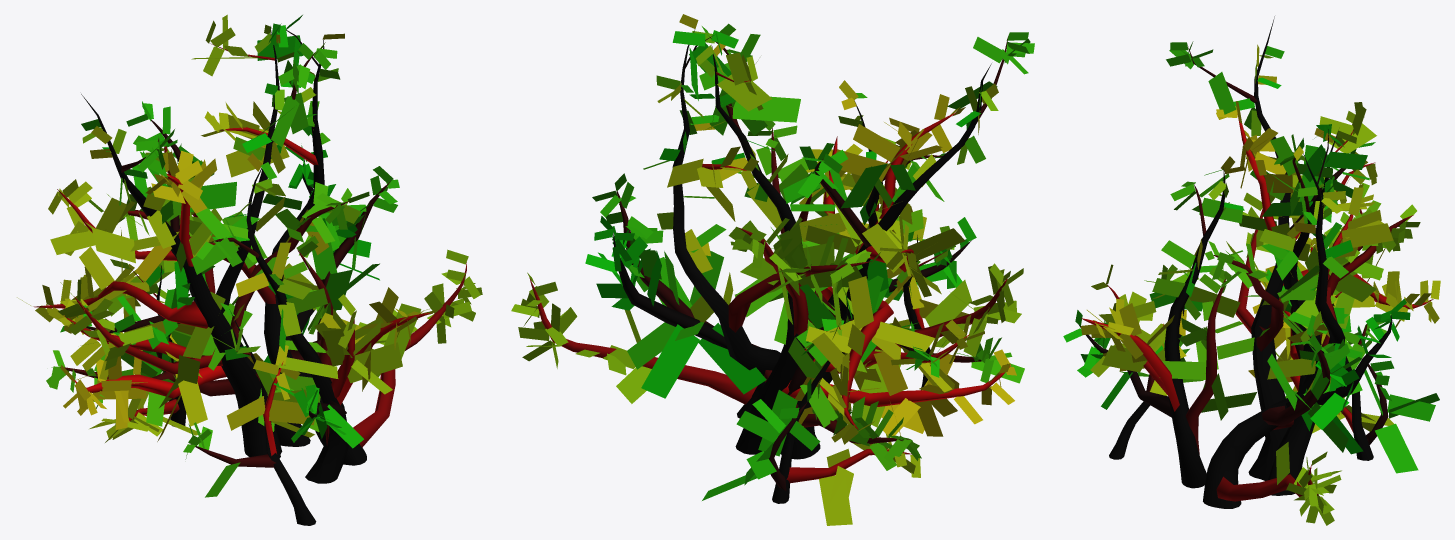
Rendered from Desert_Bush01.FBX.
The picture shows the model from 3 angles, left to right: view 1: azimuth 30°, elevation 25°; view 2: azimuth 150°, elevation 25°; view 3: azimuth 270°, elevation 25°; orthographic projection. The views are drawn at different scales.
Visible parts, largest first — view 1: Desert_Bush01; view 2: Desert_Bush01; view 3: Desert_Bush01.
Part boxes in pixels (box(x1,y1,x2,y2)): Desert_Bush01: box(17, 14, 482, 525); Desert_Bush01: box(511, 14, 1034, 525); Desert_Bush01: box(1063, 16, 1440, 525).
Bounding box in the file's own units: 236 × 209 × 188.
